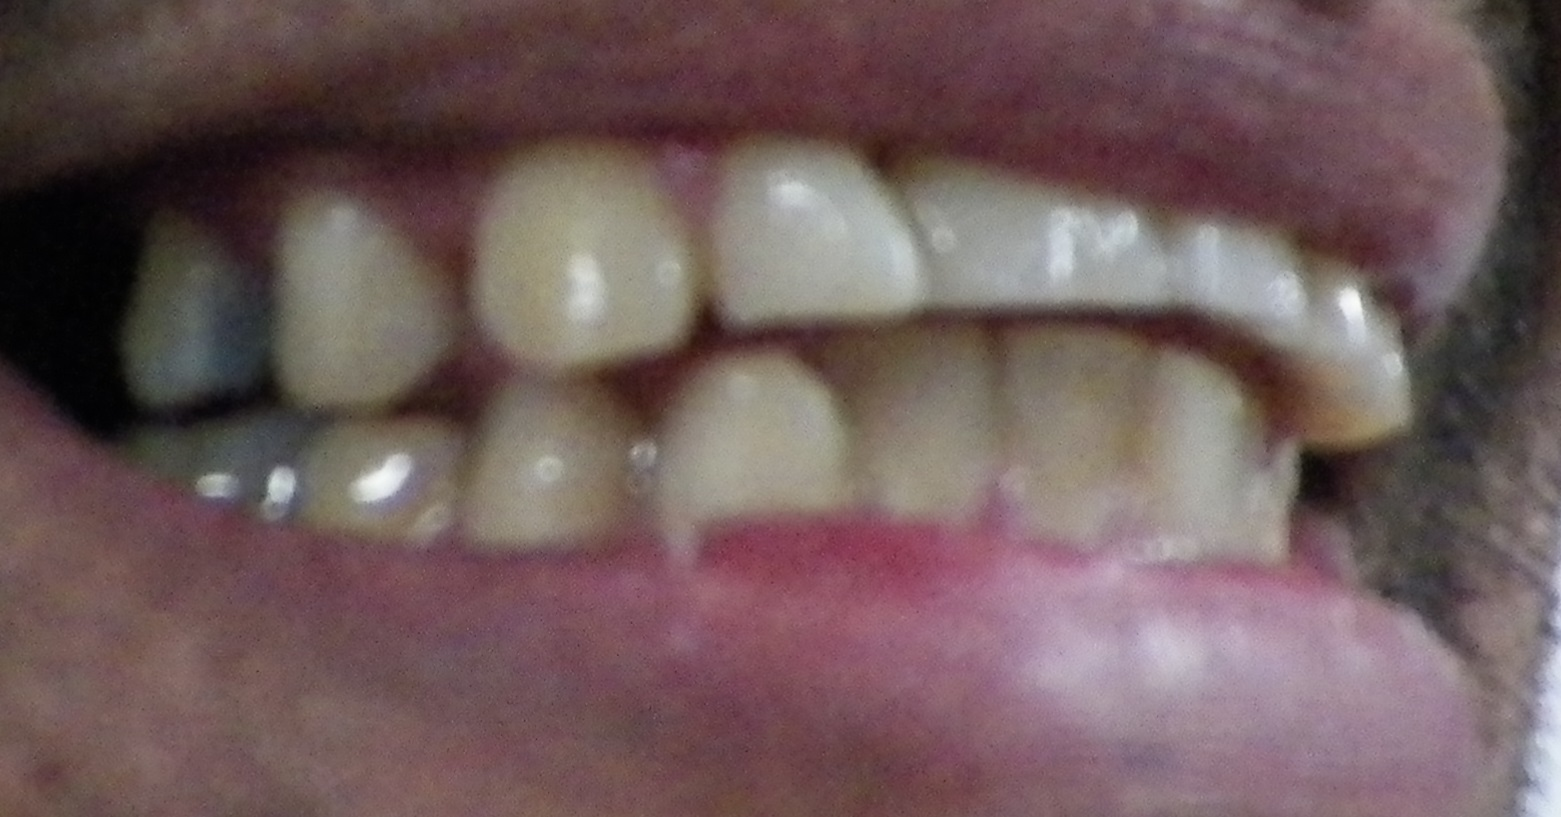boca: (102, 168, 1424, 580)
